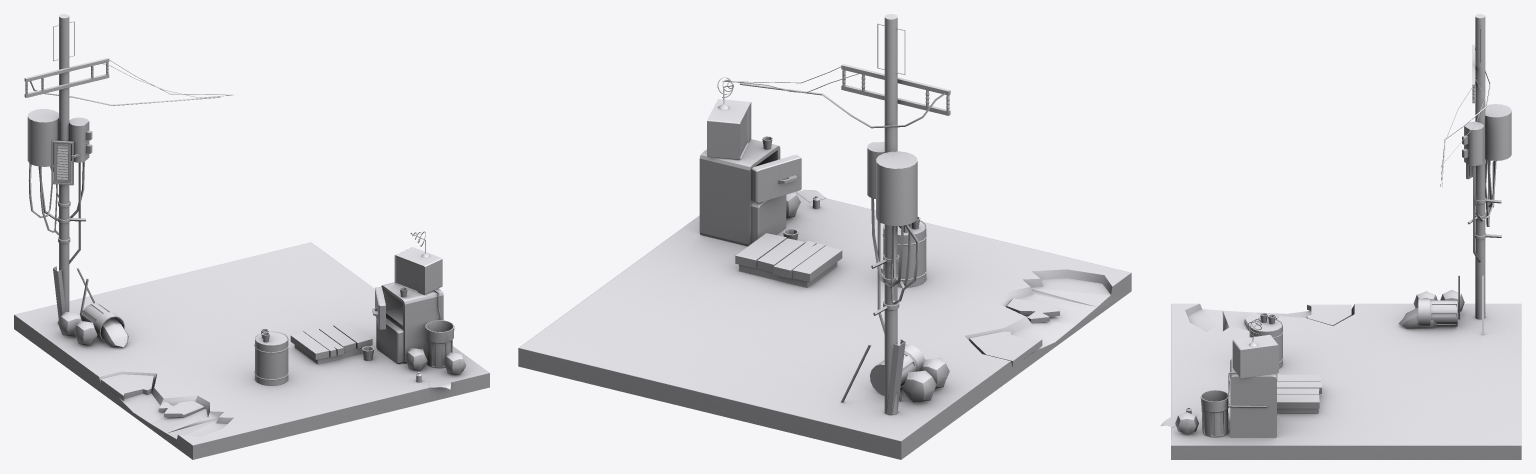
File: 重新扩展UV2.obj
3 views of the same model, side by side, from view 1: azimuth 30°, elevation 25°; view 2: azimuth 150°, elevation 25°; view 3: azimuth 270°, elevation 25° (orthographic). The views are drawn at different scales.
Visible parts, largest first — view 1: Box002; view 2: Box002; view 3: Box002.
Part boxes in pixels (bbox=[...]): Box002: bbox=[14, 14, 489, 459]; Box002: bbox=[518, 14, 1131, 459]; Box002: bbox=[1160, 14, 1521, 459].
Bounding box in the file's own units: 509 × 505 × 523.
